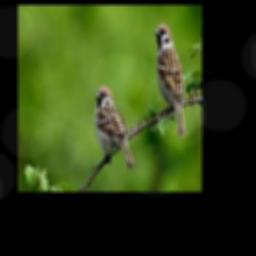Sparrow: (155, 23, 186, 137), (95, 85, 134, 169)
